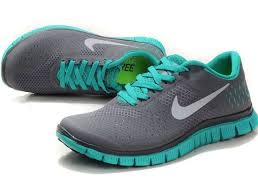nike: (171, 82, 230, 121)
